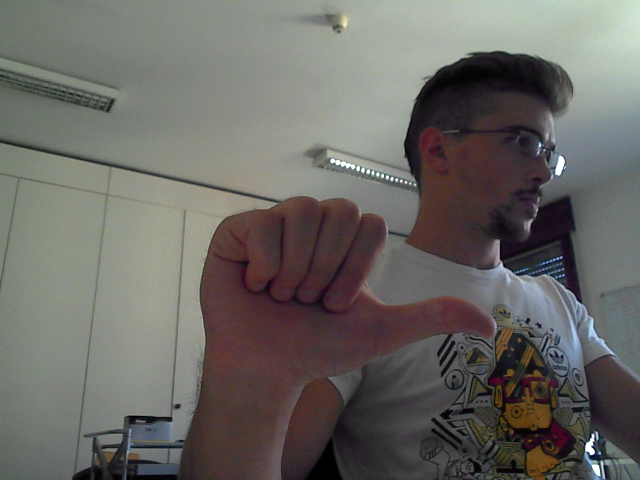right: (196, 193, 501, 389)
